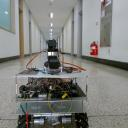cart: (13, 68, 89, 128)
